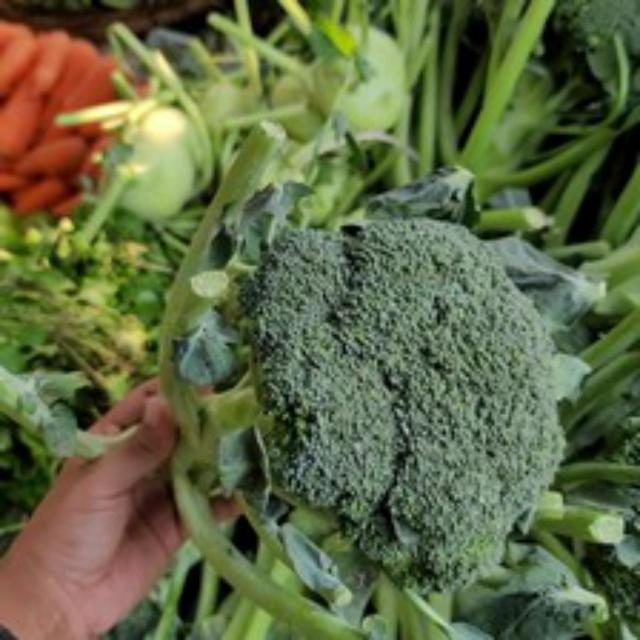broccoli: (194, 187, 576, 583)
